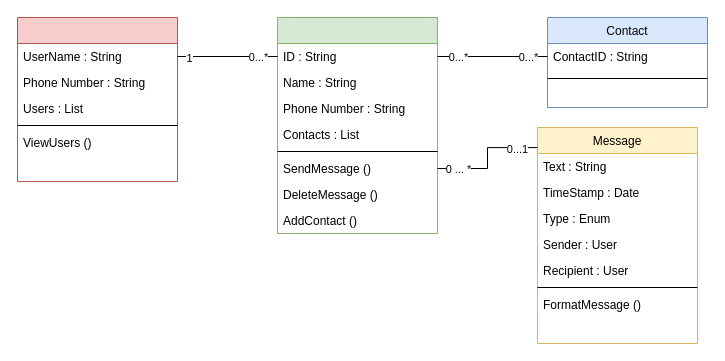
Some shapes in this 725 by 361 pixel diagram are drawn without their labels. Here are the shapes that lost their labels. From the top down, the box of each, then its label:
(16, 16, 178, 182): Adminstrator
(276, 16, 438, 234): Client
